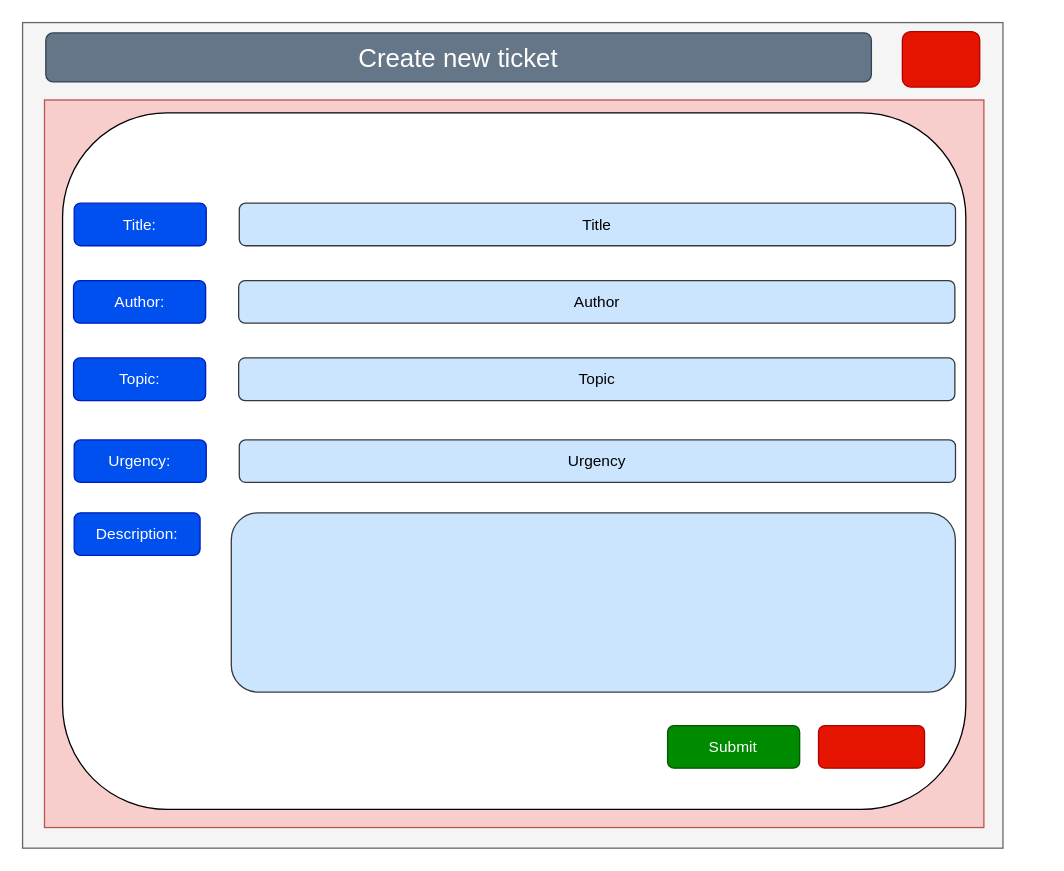
Image size: 1064x871. Some labels were removed from this diagram. Each missing label, with the centre of its shape:
Cancel: the point at 871,746
Close: the point at 940,58
Description: the point at 592,601
